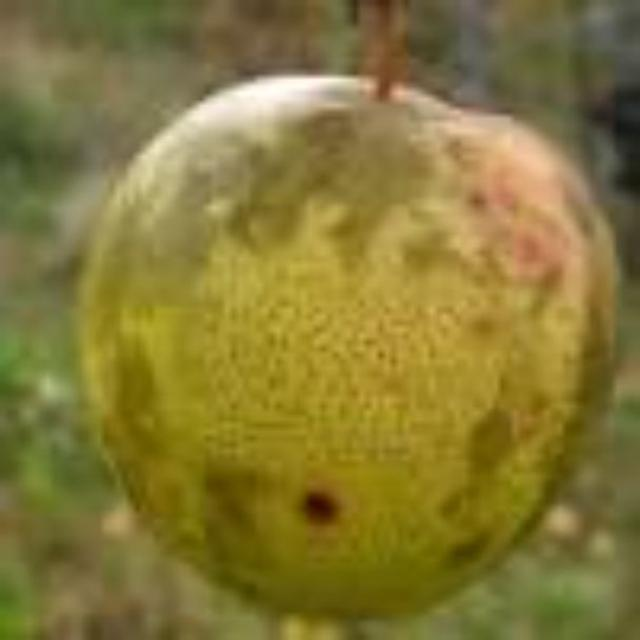Rotten Apple: (39, 59, 640, 638)
